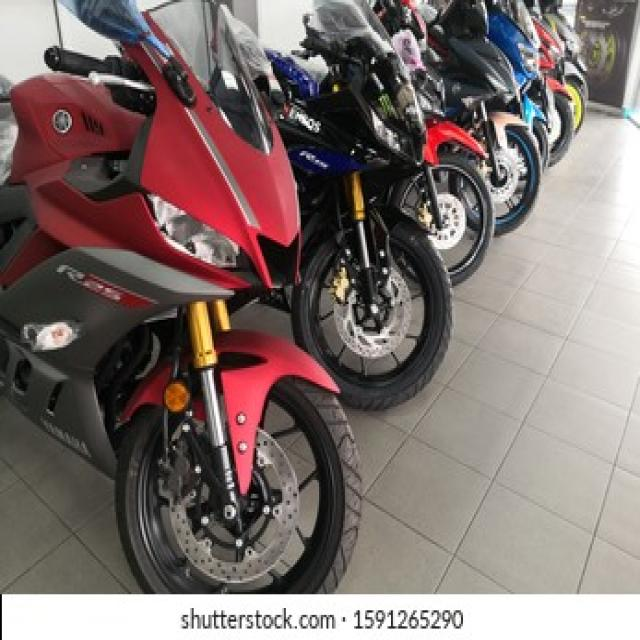Bike: (1, 2, 362, 596)
